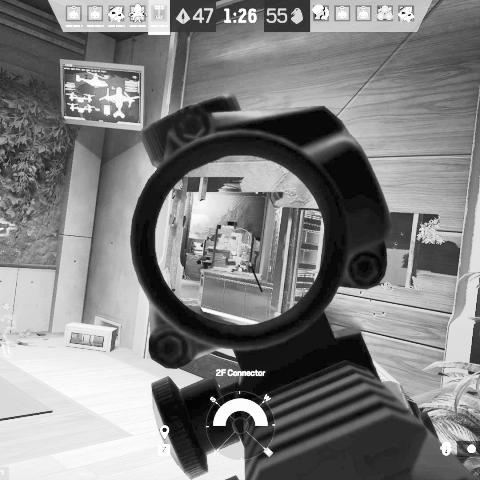Character: (237, 243, 251, 272)
Friend_label: (0, 301, 16, 317)
